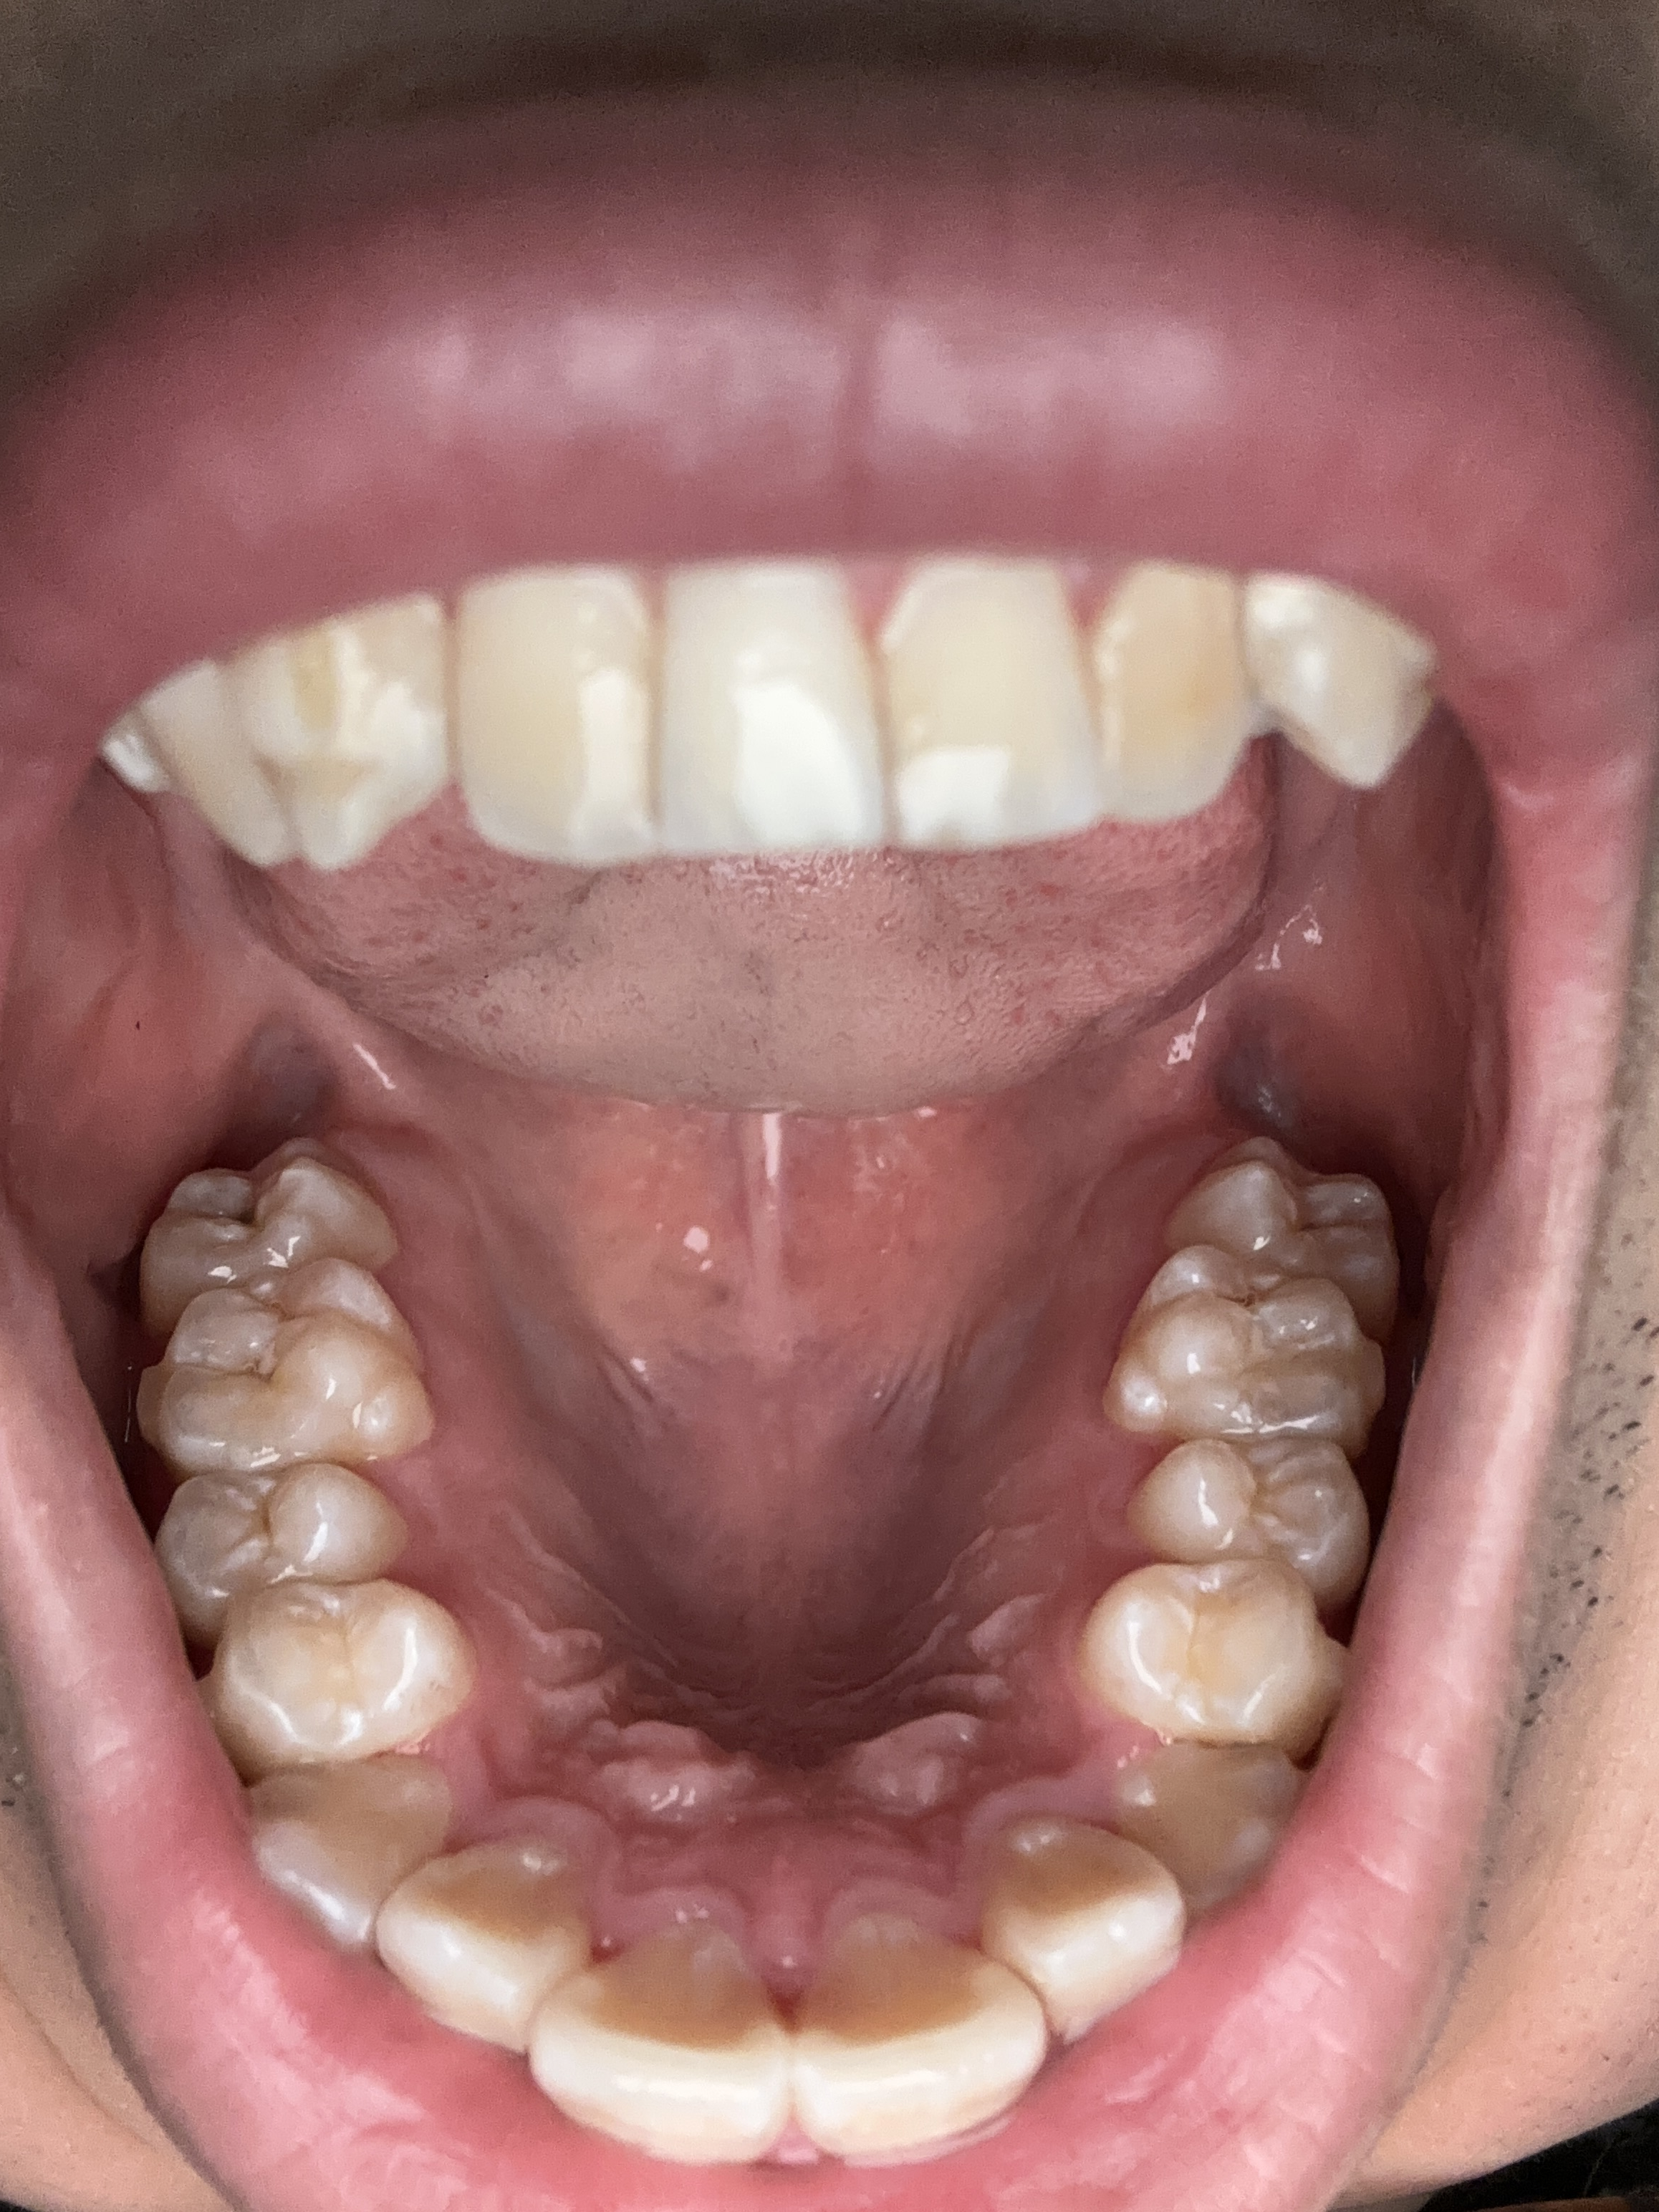teeth: (636, 568, 890, 866), (554, 1862, 798, 2165), (800, 1900, 1061, 2168), (904, 547, 1121, 850), (460, 587, 650, 860), (995, 1792, 1197, 2033), (385, 1829, 601, 2054), (244, 596, 429, 852), (99, 644, 305, 873), (185, 1587, 477, 1745), (1136, 1247, 1361, 1433), (153, 1296, 392, 1468), (1122, 1444, 1370, 1595), (1253, 592, 1439, 786), (1079, 1581, 1312, 1735), (1117, 580, 1255, 827), (146, 1158, 392, 1289), (152, 1480, 392, 1608), (1208, 1158, 1396, 1312), (1100, 1754, 1293, 1898), (270, 1787, 434, 1930)
